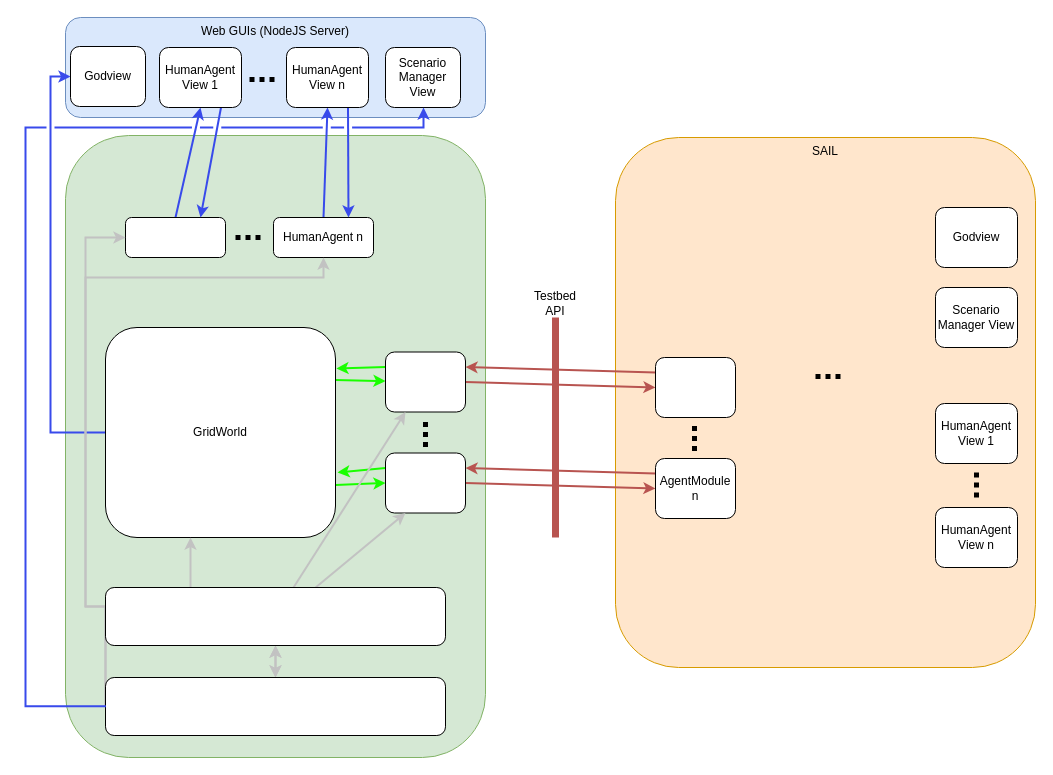
The diagram is 1053 pixels wide and 775 high, and some of its shapes have lost their labels. Here are the shapes that lost their labels. From the top down, the box of each, then its label:
(124, 216, 226, 258): HumanAgent 1
(384, 351, 466, 412): Agent 1
(654, 356, 736, 418): AgentModule 1
(64, 134, 486, 758): Testbed
(384, 452, 466, 513): Agent n
(104, 586, 446, 646): WorldFactory
(104, 676, 446, 736): Scenario
